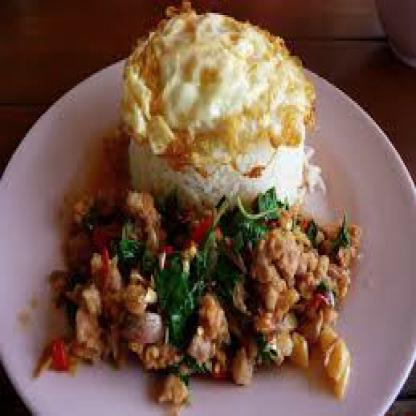Basil Rice: (42, 40, 372, 412)
